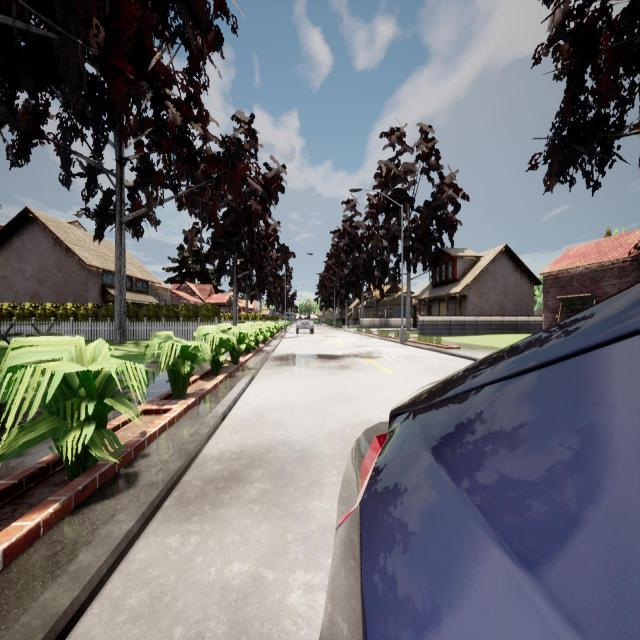Vehicle: (321, 288, 640, 640), (294, 313, 316, 337)
